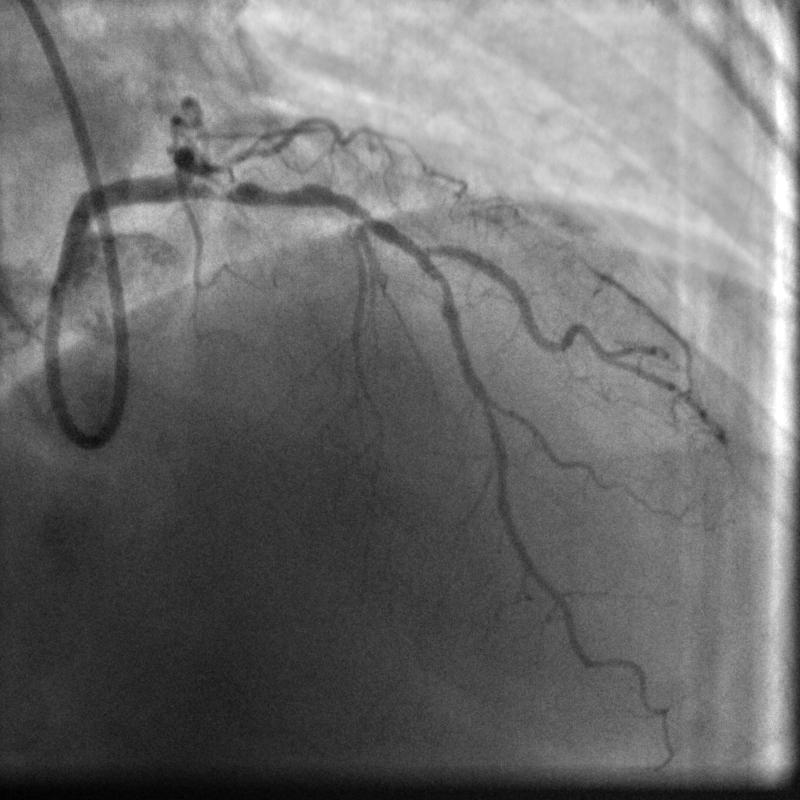Stenosis: (200, 176, 315, 209)
